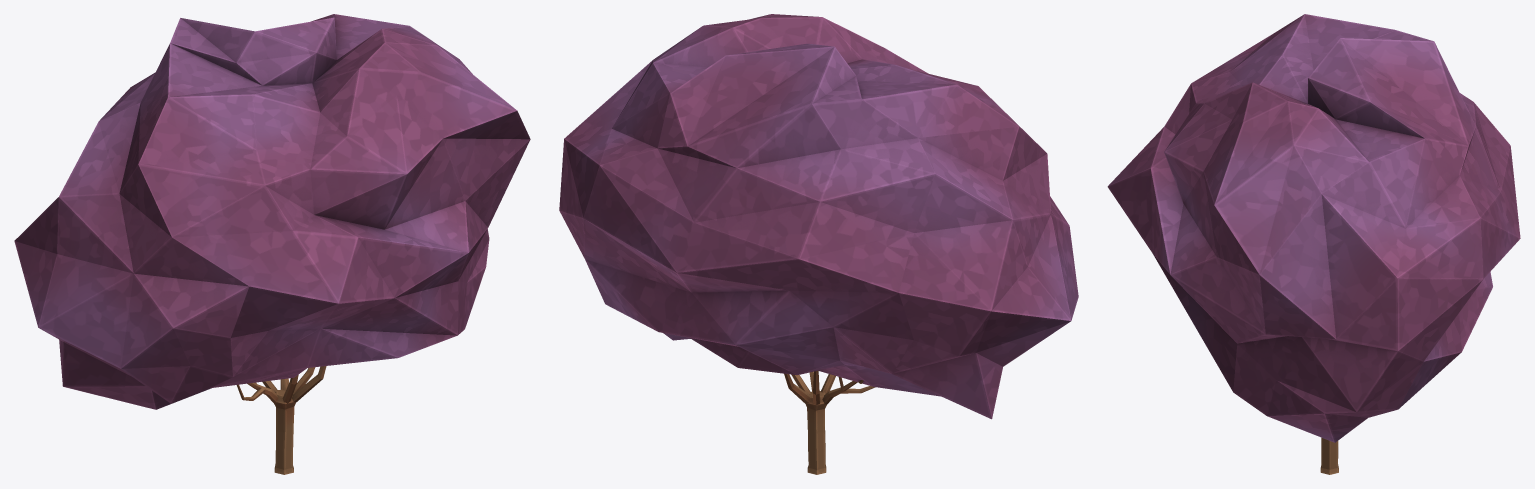
The model's file is CherryTree.gltf.
3 renders of one model, left to right at view 1: azimuth 30°, elevation 25°; view 2: azimuth 150°, elevation 25°; view 3: azimuth 270°, elevation 25°, orthographic. The views are drawn at different scales.
Parts seen in each view (by area): view 1: node-0; view 2: node-0; view 3: node-0.
Part boxes in pixels (box(x1,y1,x2,y2)): node-0: box(14, 14, 530, 474); node-0: box(559, 14, 1078, 474); node-0: box(1107, 14, 1520, 474).
Bounding box in the file's own units: 14.98 × 13.18 × 11.71.
1 material, 1 textured.
